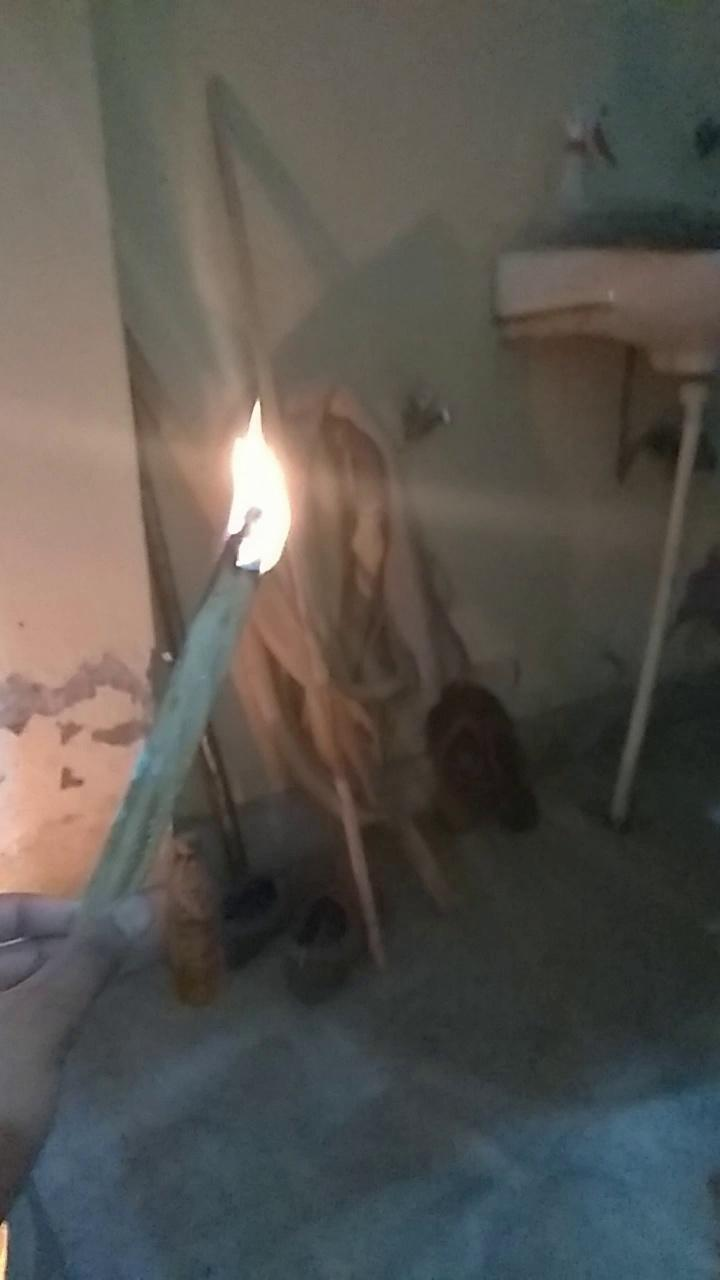fire: (171, 382, 330, 606)
